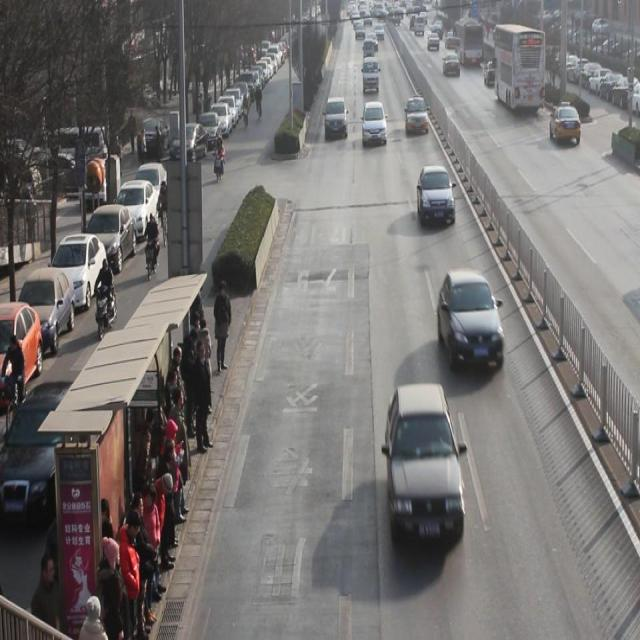car: (387, 385, 466, 545), (438, 268, 504, 374), (417, 166, 456, 227), (549, 104, 581, 148), (362, 100, 387, 144), (326, 96, 348, 142), (405, 98, 430, 137), (484, 60, 503, 89), (442, 51, 460, 78)
truck: (363, 56, 380, 93)
van: (493, 21, 546, 113)
